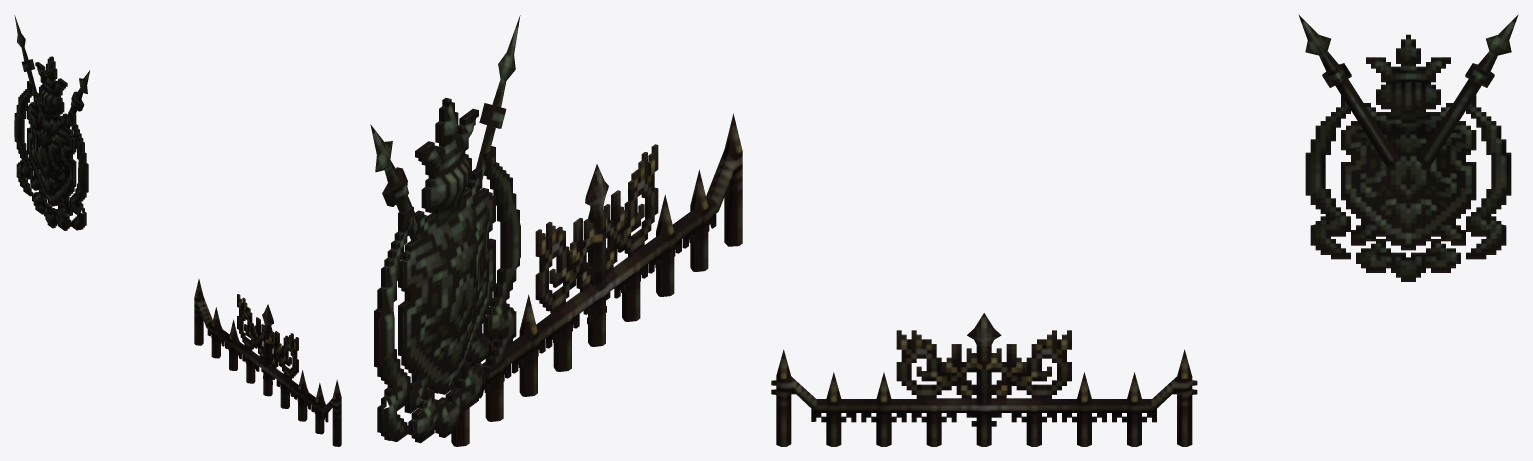
The model's file is EnvMdrMD_City_B_Theater_Fence_A_PillarDeco_A.FBX.
3 renders of one model, left to right at view 1: azimuth 30°, elevation 25°; view 2: azimuth 150°, elevation 25°; view 3: azimuth 270°, elevation 25°, orthographic. The views are drawn at different scales.
Parts seen in each view (by area): view 1: EnvMdrMD_City_B_Theater_Fence_A_PillarDeco_A, EnvMdrMD_City_B_Theater_Fence_A_WallDeco_A; view 2: EnvMdrMD_City_B_Theater_Fence_A_PillarDeco_A, EnvMdrMD_City_B_Theater_Fence_A_WallDeco_A; view 3: EnvMdrMD_City_B_Theater_Fence_A_PillarDeco_A, EnvMdrMD_City_B_Theater_Fence_A_WallDeco_A.
Boxes of the visible parts, x1,y1,x2,y2 form: EnvMdrMD_City_B_Theater_Fence_A_PillarDeco_A: [14, 15, 90, 230]; EnvMdrMD_City_B_Theater_Fence_A_WallDeco_A: [194, 279, 341, 446]; EnvMdrMD_City_B_Theater_Fence_A_PillarDeco_A: [370, 15, 520, 443]; EnvMdrMD_City_B_Theater_Fence_A_WallDeco_A: [451, 113, 742, 446]; EnvMdrMD_City_B_Theater_Fence_A_PillarDeco_A: [1298, 14, 1518, 281]; EnvMdrMD_City_B_Theater_Fence_A_WallDeco_A: [771, 313, 1197, 446].
Bounding box in the file's own units: 139 × 420 × 746.
Materials: 1 (1 with a texture image).
